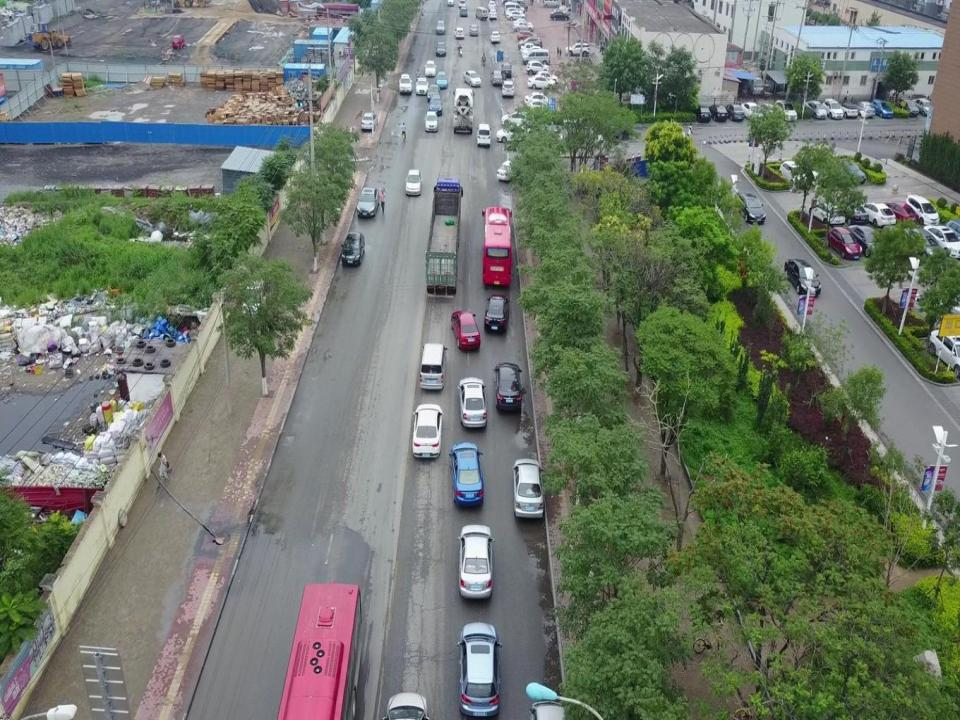bus: (273, 579, 364, 720), (481, 205, 513, 288)
car: (457, 620, 503, 718), (457, 522, 495, 600), (449, 441, 485, 506), (512, 458, 544, 518), (927, 323, 960, 380), (411, 403, 444, 459), (456, 376, 488, 431), (493, 361, 524, 413), (783, 257, 822, 298), (905, 226, 946, 262), (846, 223, 888, 257), (450, 310, 482, 353), (826, 226, 864, 261), (922, 224, 960, 258), (808, 197, 846, 229), (905, 194, 940, 227), (778, 160, 814, 192), (878, 200, 919, 227), (733, 191, 766, 224), (483, 293, 510, 333), (831, 199, 869, 227), (856, 201, 896, 227), (834, 156, 866, 188), (340, 231, 366, 268), (355, 187, 381, 218), (496, 156, 524, 184), (500, 109, 534, 128), (496, 123, 528, 142), (774, 98, 798, 121), (739, 102, 765, 122), (897, 95, 919, 118), (404, 168, 422, 196), (803, 99, 827, 120), (704, 103, 728, 124), (821, 98, 844, 119), (870, 98, 894, 118), (721, 102, 745, 122), (756, 102, 779, 122), (524, 92, 552, 108), (528, 74, 556, 90), (530, 70, 558, 86), (853, 99, 876, 118), (524, 100, 552, 115), (912, 97, 933, 117), (564, 42, 589, 58), (476, 123, 491, 149), (525, 60, 549, 76), (398, 72, 413, 96), (462, 70, 482, 88), (694, 102, 712, 122), (838, 100, 858, 117), (519, 44, 545, 57), (517, 36, 543, 49), (424, 109, 438, 133), (361, 112, 378, 131), (428, 95, 442, 116), (426, 84, 440, 103), (501, 80, 515, 99), (516, 30, 538, 42), (435, 71, 448, 90), (504, 6, 524, 18), (549, 9, 570, 20), (416, 77, 428, 96), (513, 18, 532, 30), (170, 35, 186, 49), (424, 60, 436, 78), (513, 22, 534, 32), (500, 62, 512, 79), (490, 70, 502, 86), (507, 10, 525, 20), (435, 42, 447, 56), (436, 19, 446, 34), (468, 24, 478, 36), (454, 26, 464, 38), (459, 6, 468, 17), (491, 31, 499, 42), (489, 8, 497, 19)
truck: (424, 174, 464, 298), (741, 62, 764, 96)
van: (418, 342, 449, 390), (522, 49, 550, 67), (504, 2, 524, 15), (474, 6, 488, 20), (541, 0, 560, 8)
